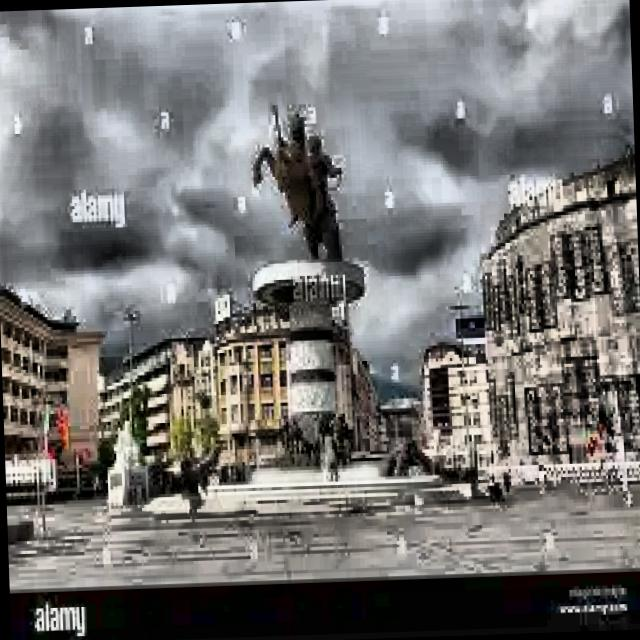alexander the great monument: (160, 94, 446, 504)
